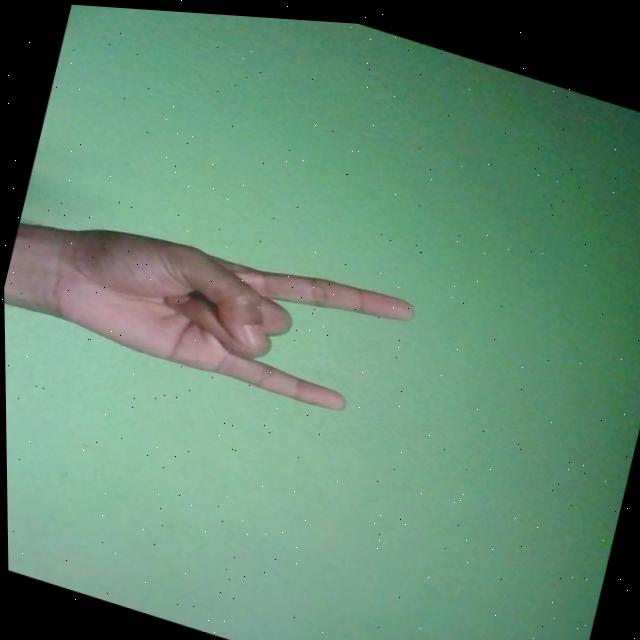Rock On: (32, 191, 419, 427)
